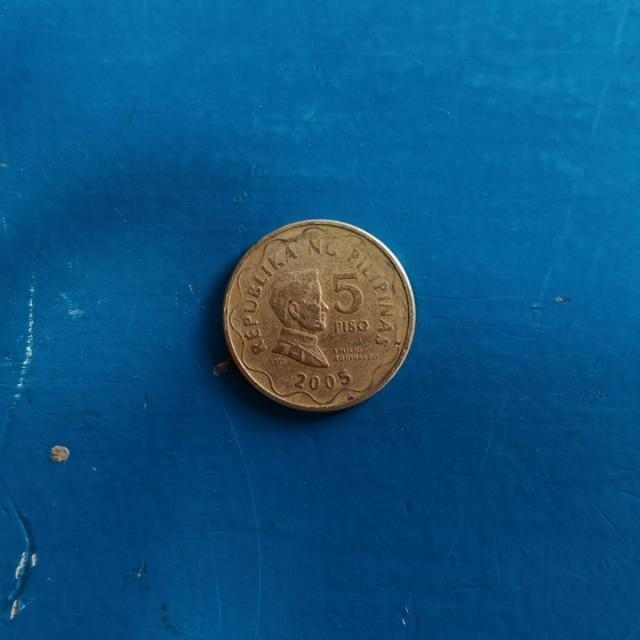5 peso-old: (210, 210, 423, 427)
